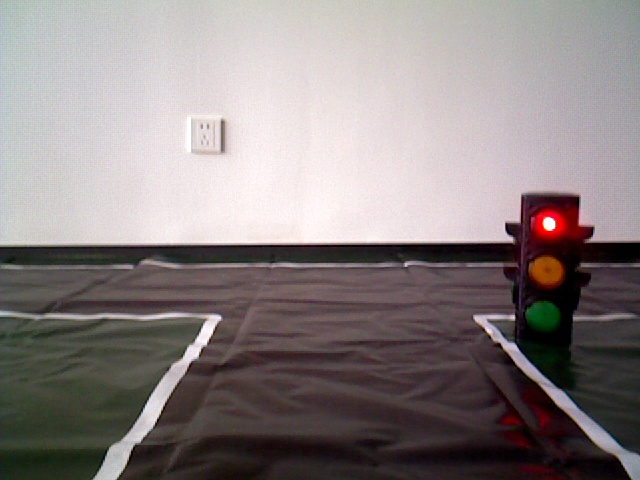red: (515, 197, 575, 339)
